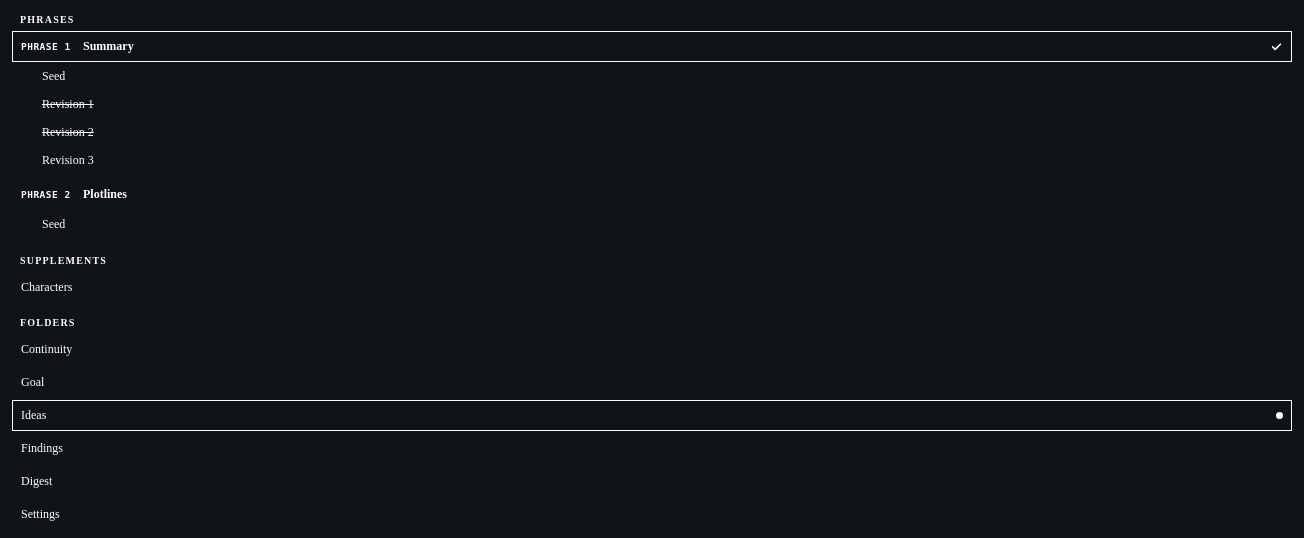
Test: StoryOutline — the phrase header is a disclosure control (U-21) › collapses and re-expands Phrase 1 on the whole header, and still navigates on every click
// One click folds it: the rows are GONE from the DOM, which is what takes them out of the tab order.
Click the button with class "outline-item--phrase" showing "Phrase 1 Summary": coordinates (43, 46) 12,31 -> 1292,62
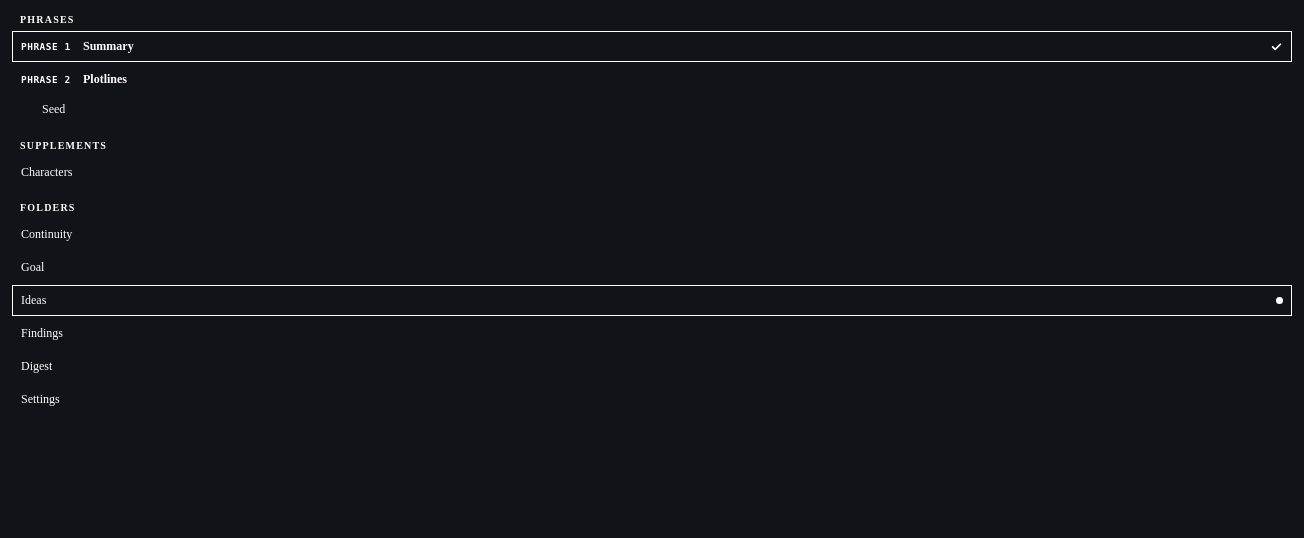
Expected: the list with id "outline-children-summary" is gone
Expected: the button "Revision 1" is gone
Click the button with class "outline-item--phrase" showing "Phrase 1 Summary": coordinates (43, 46) 12,31 -> 1292,62
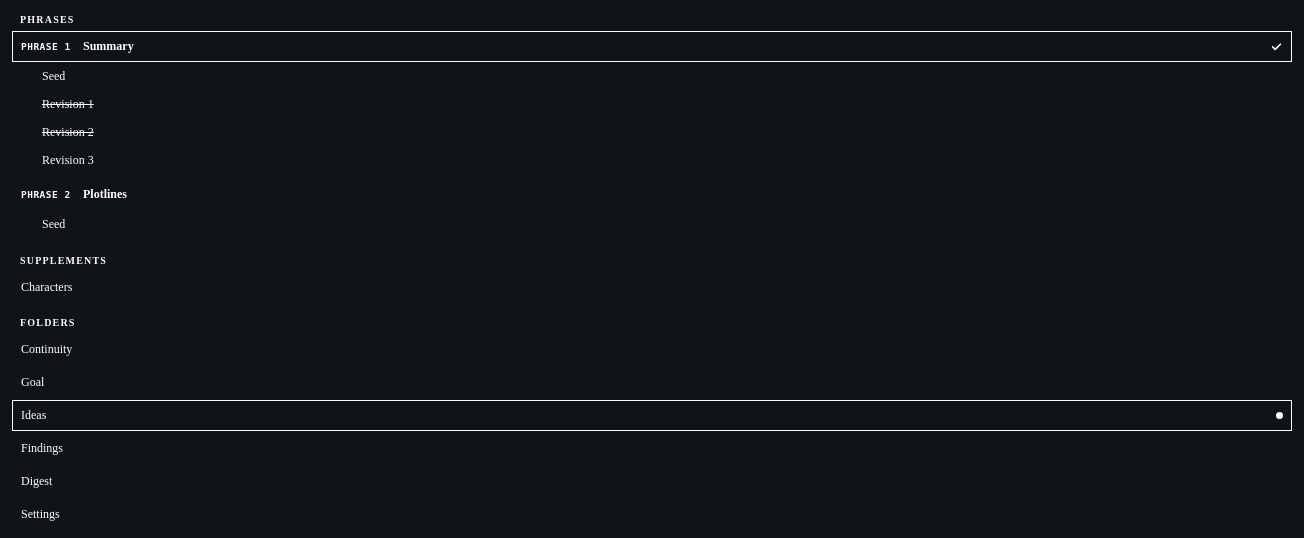
Expected: the button named "Revision 1 Discarded" is shown, 34,91 -> 1292,118
